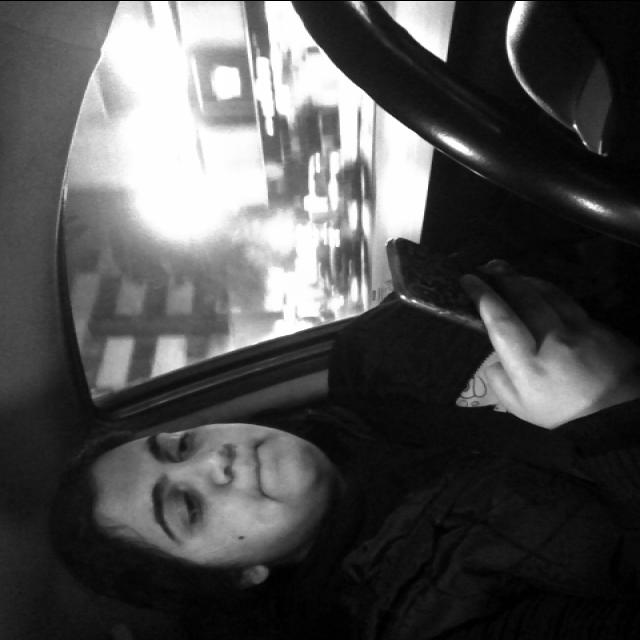mobile use: (388, 238, 534, 344)
